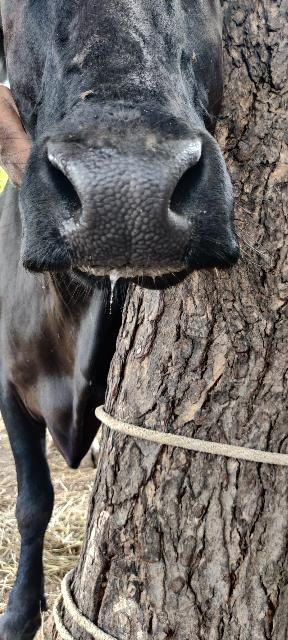Muzzle: (57, 152, 188, 270)
